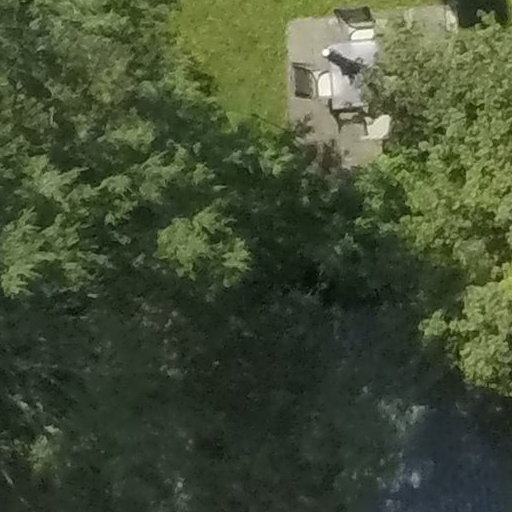chair: (281, 52, 325, 104), (330, 3, 384, 41)
table: (328, 26, 383, 115)
